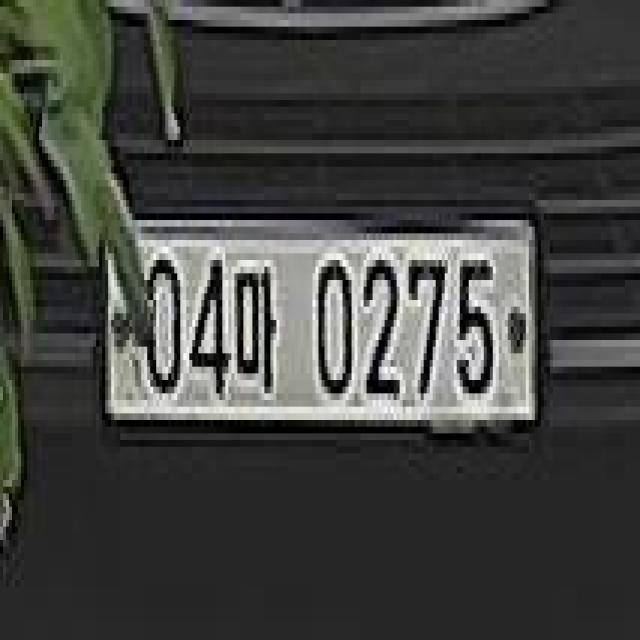illegal_plate: (101, 208, 540, 454)
